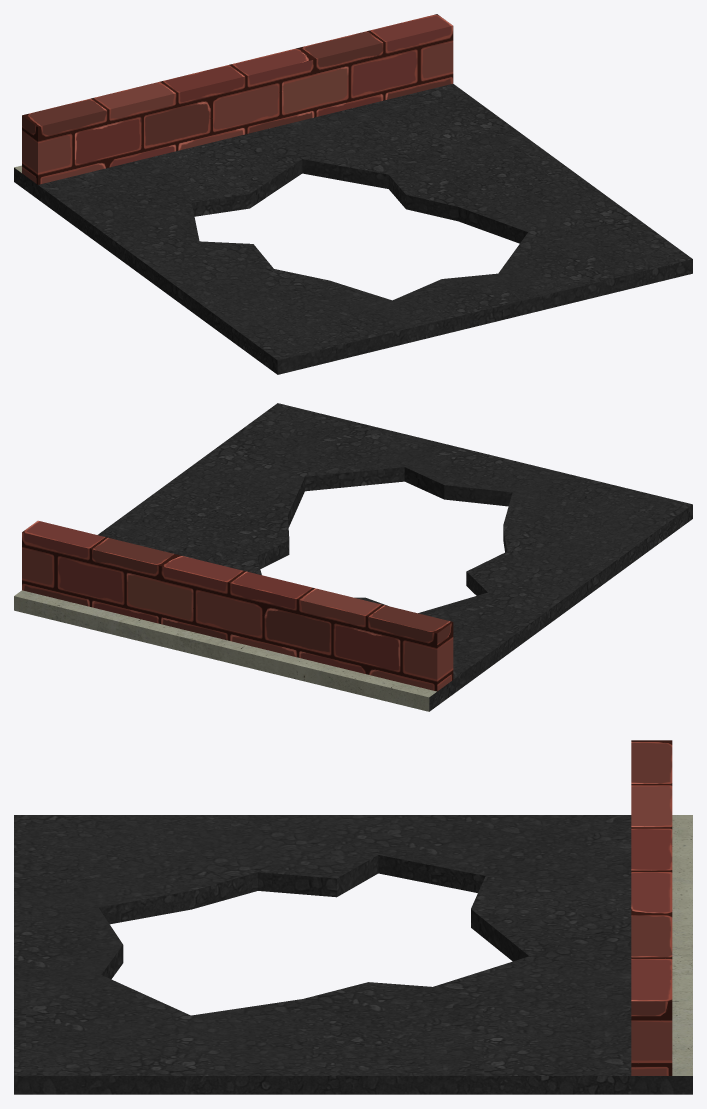
The model's file is roof02_edge_destroyed.fbx.
The picture shows the model from 3 angles, top to bottom: view 1: azimuth 30°, elevation 25°; view 2: azimuth 150°, elevation 25°; view 3: azimuth 270°, elevation 25°; orthographic projection. The views are drawn at different scales.
Visible parts, largest first — view 1: roof02_edge_destroyed; view 2: roof02_edge_destroyed; view 3: roof02_edge_destroyed.
Part boxes in pixels (box(x1,y1,x2,y2)): roof02_edge_destroyed: box(14, 14, 692, 374); roof02_edge_destroyed: box(14, 403, 692, 711); roof02_edge_destroyed: box(14, 740, 692, 1094).
Size of the model in its own units: 300 by 50 by 330.
